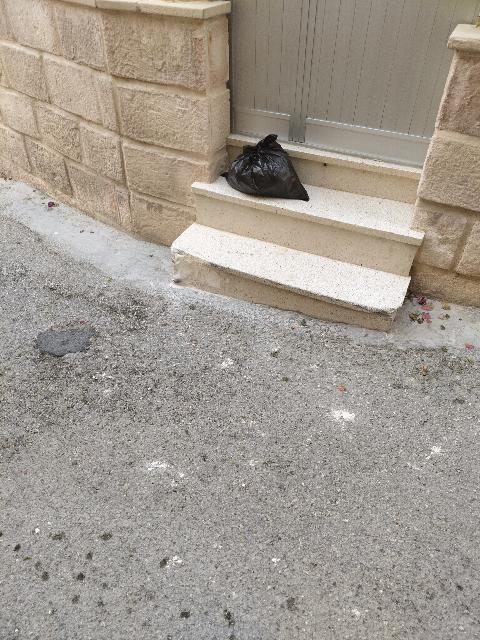Mixed -Black-: (226, 135, 309, 201)
